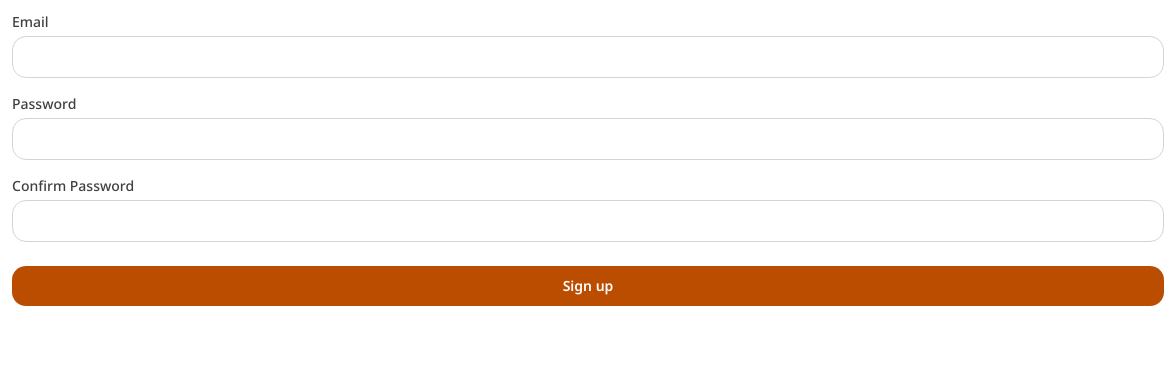
Test: SignUpForm › shows an error message when registration fails
Type "taken@example.com" into the field labelled "Email".
click(588, 57); type("taken@example.com")  # box [12,36,1164,78]
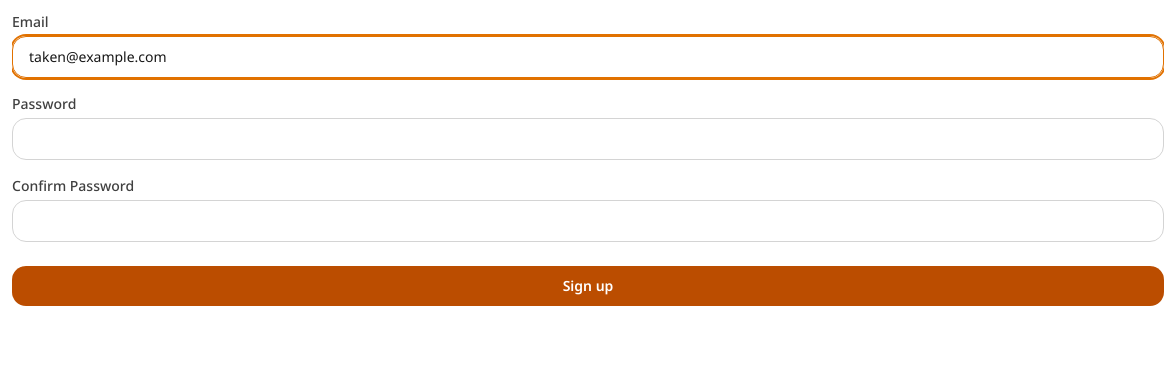
Type "Password1!" into the password field labelled "Password".
click(588, 139); type("Password1!")  # box [12,118,1164,160]
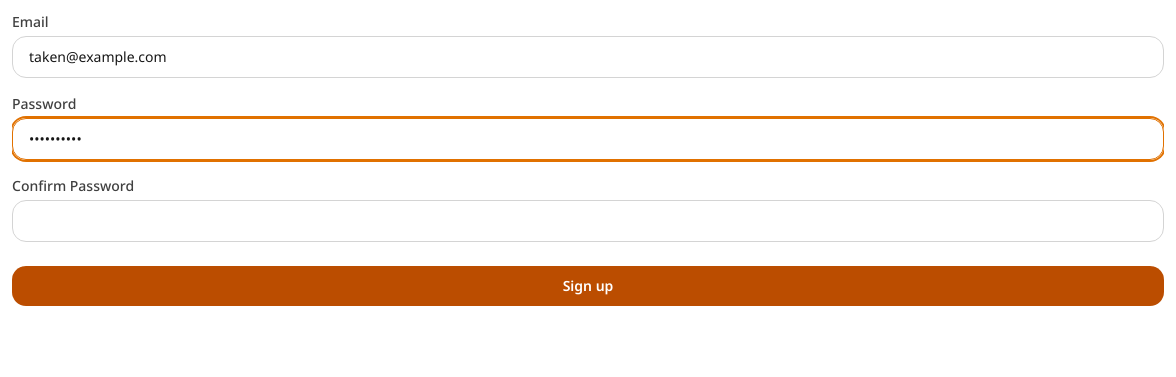
Type "Password1!" into the password field labelled "Confirm Password".
click(588, 221); type("Password1!")  # box [12,200,1164,242]
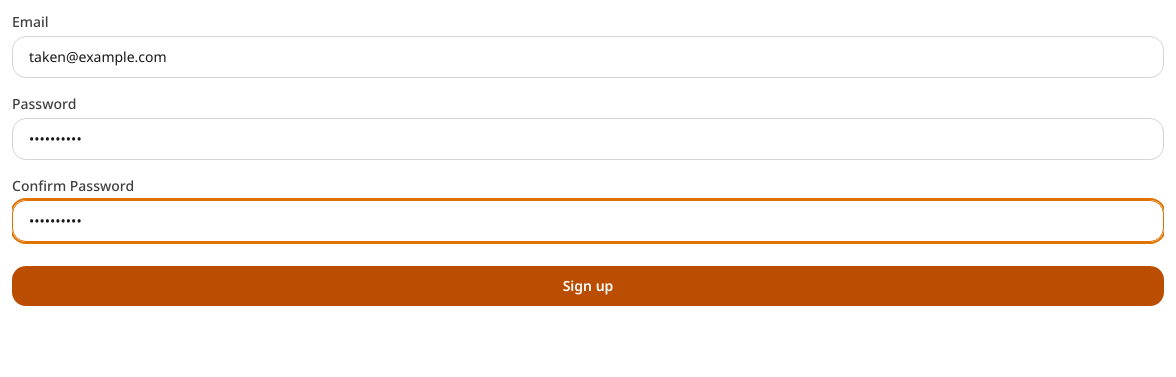
Click the button "Sign up".
click(588, 286)  # box [12,266,1164,306]
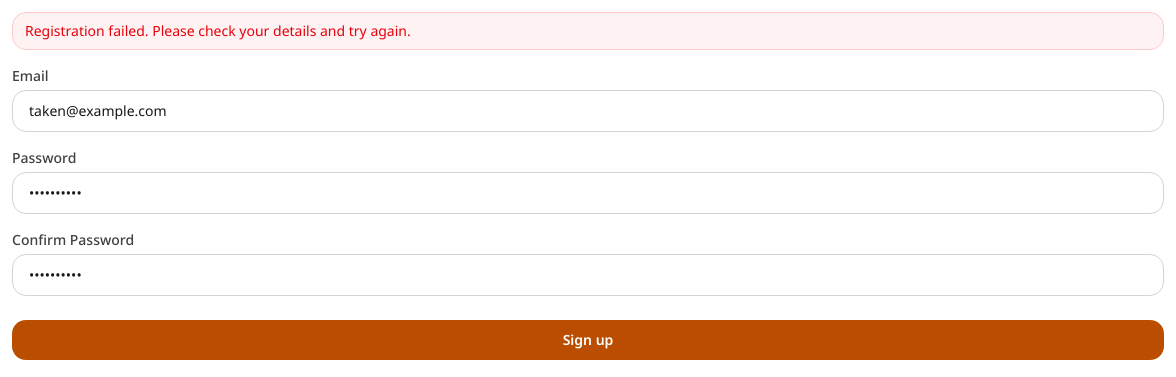
Expected: the message "Registration failed. Please check your details and try again." is shown, [12,12,1164,50]
